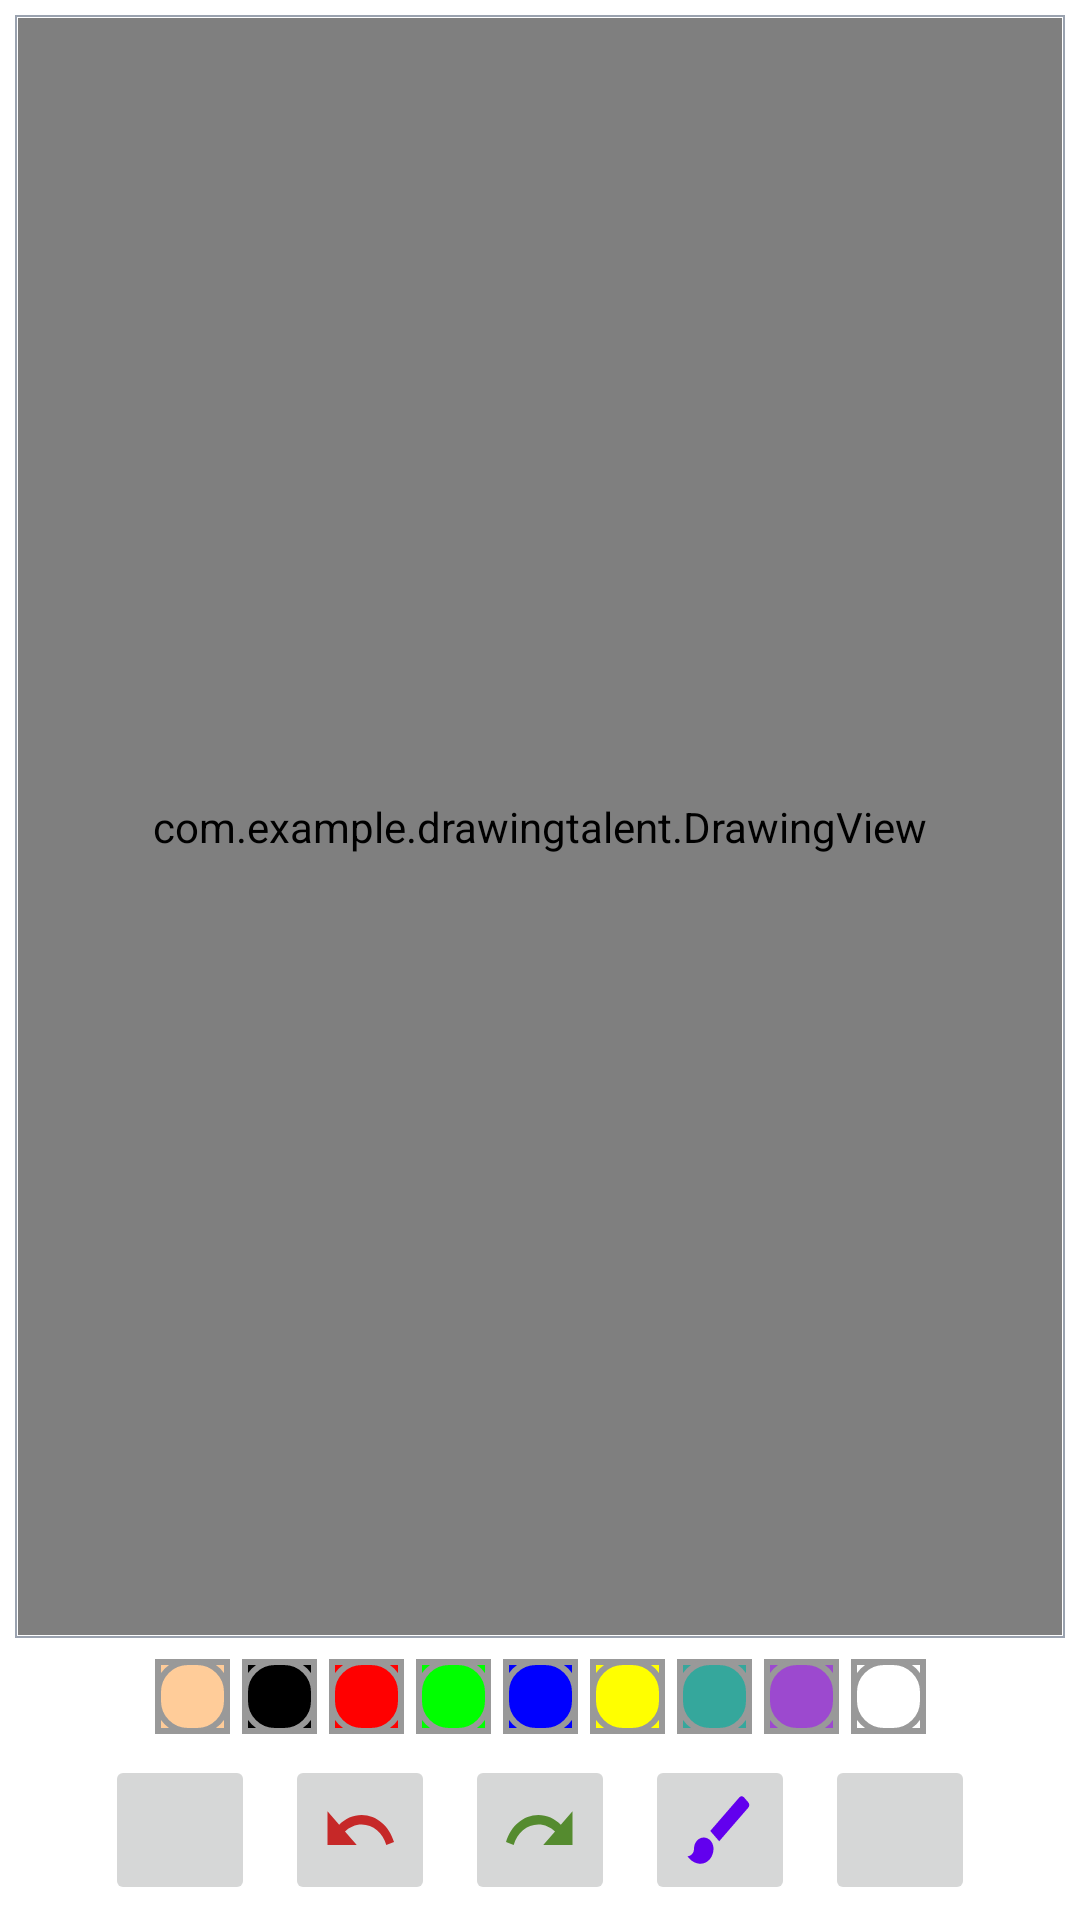

Named icons in this screenshot (1080 x 1920) and their bounding boxes, rect(x1, y1, x2, y2):
brush: rect(657, 1773, 783, 1887)
redo: rect(477, 1773, 603, 1887)
undo: rect(297, 1773, 423, 1887)
